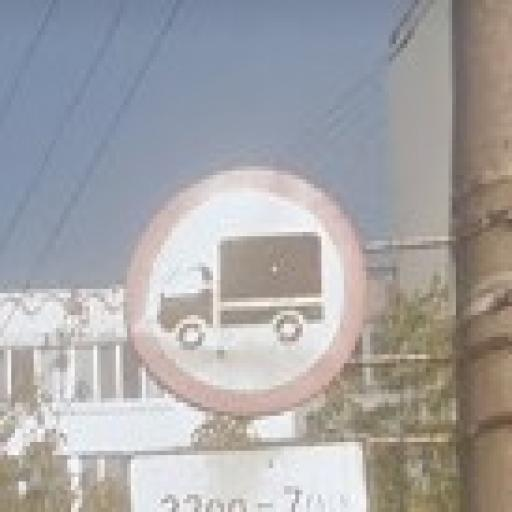traffic_sign: (125, 167, 368, 417)
